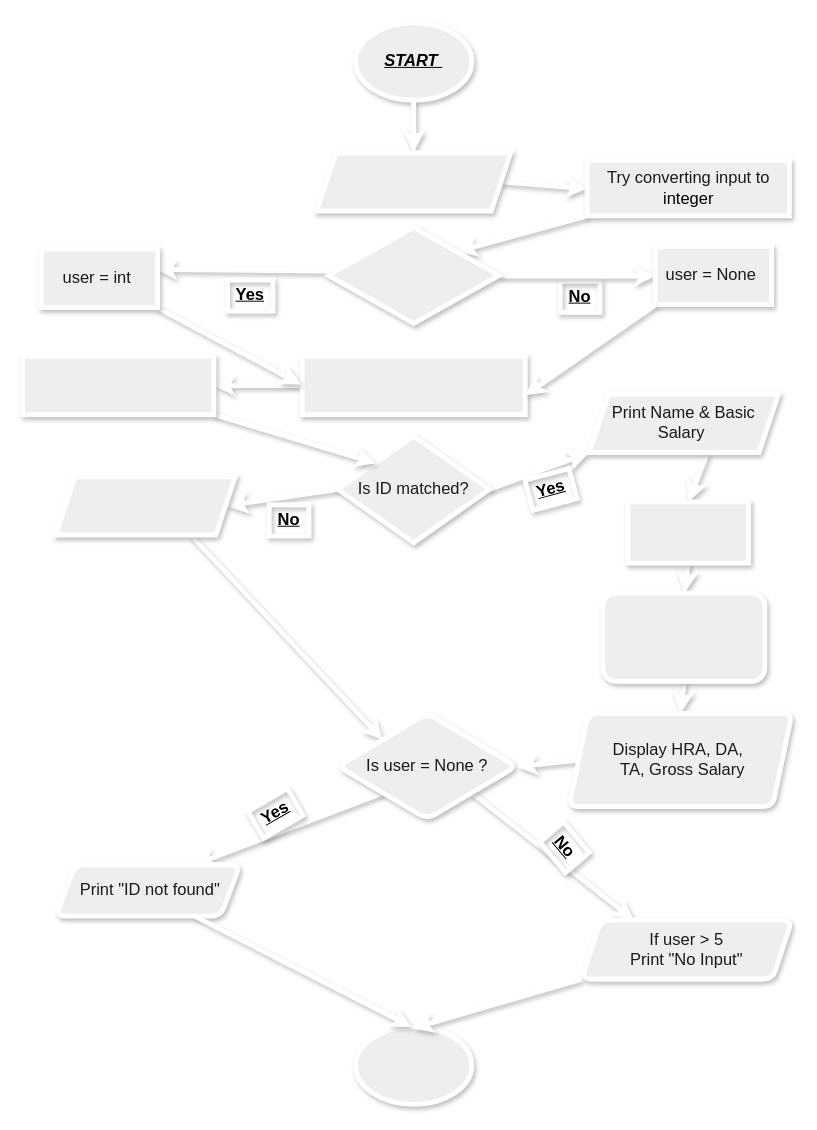
Some shapes in this 817 by 1130 pixel diagram are drawn without their labels. The shapes that lost their labels are listed below. From the top down, each one's centre as x and y in pixels, then its label:
the point at 414,183: Enter Employee ID
the point at 414,276: Is conversion successful?
the point at 119,386: Check each employee ID
the point at 414,386: Fetch employees from DB
the point at 146,507: Print ID not found
the point at 688,533: Calculate HRA, DA, TA
the point at 684,638: Gross Salary = Basic + HRA+DA+TA
the point at 414,1066: STOP
